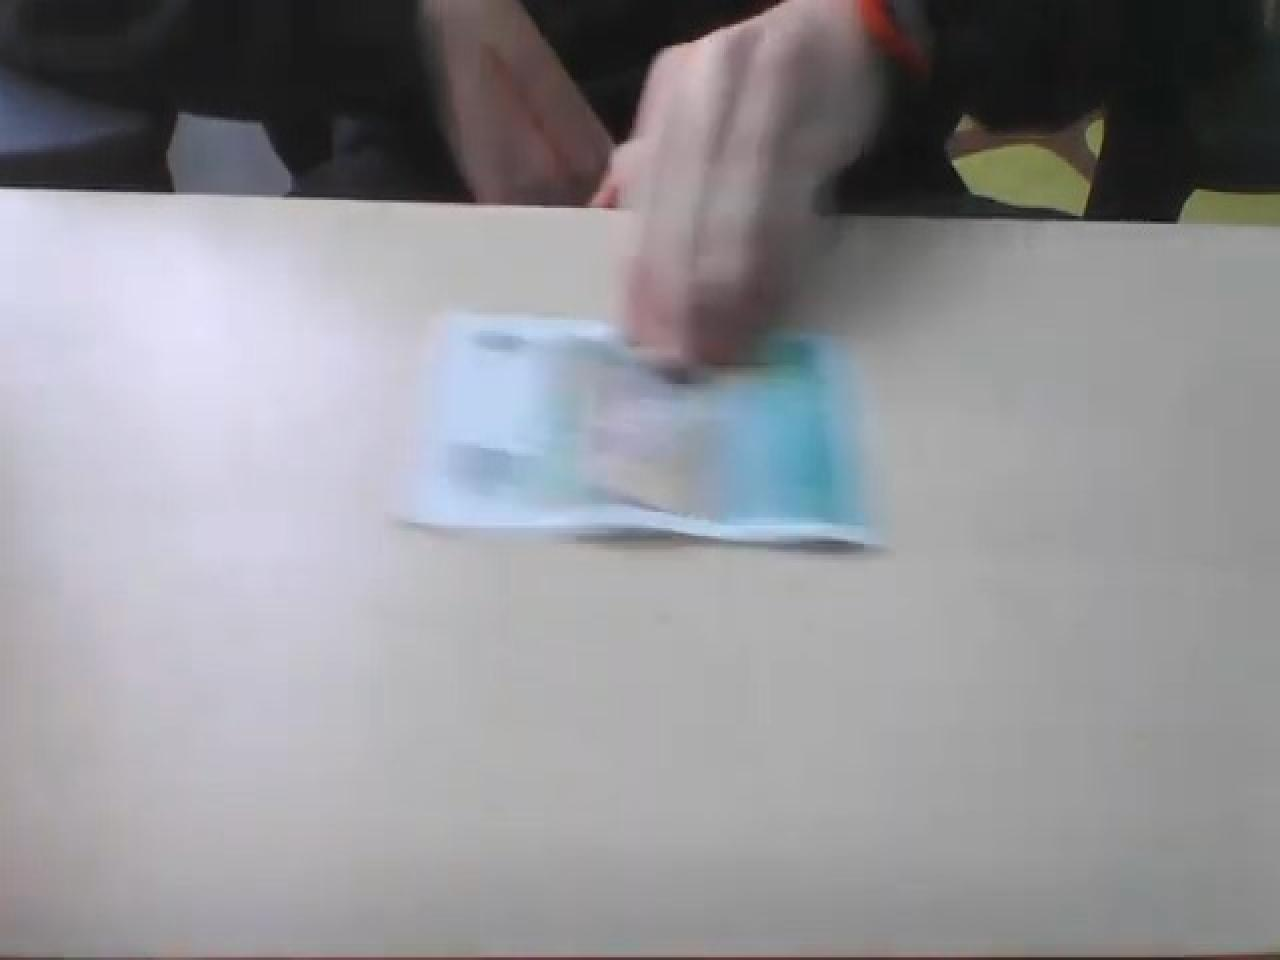100leva: (392, 307, 888, 553)
